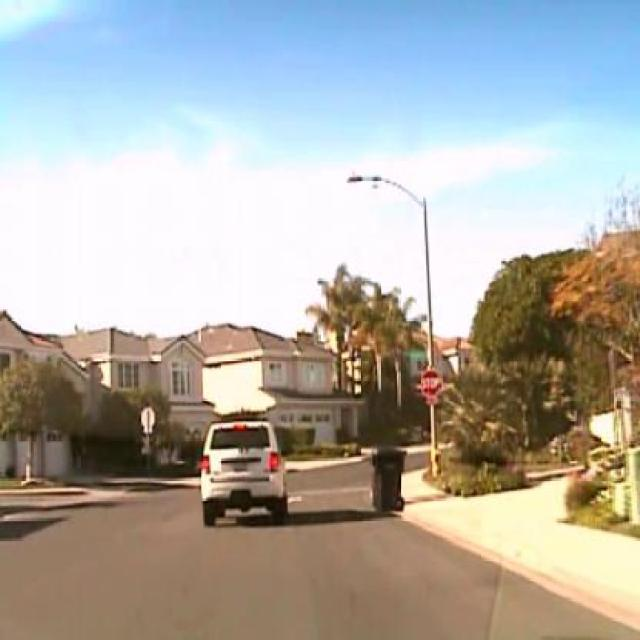stop: (422, 366, 443, 399)
